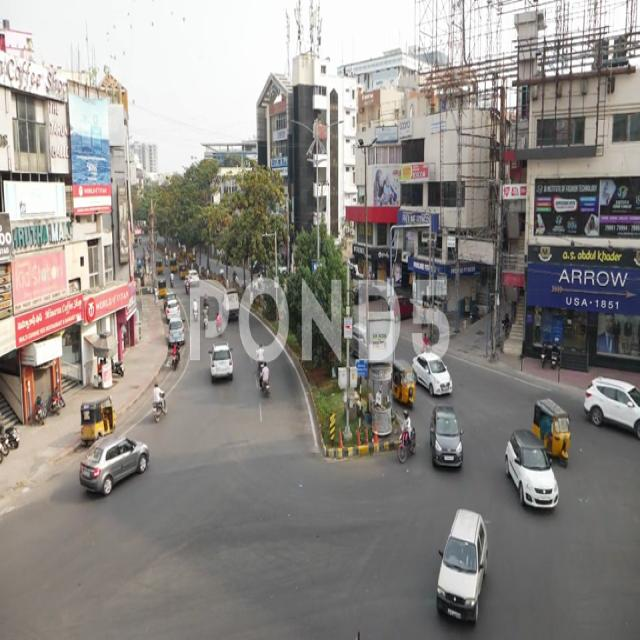car: (437, 502, 488, 631), (498, 430, 568, 511), (78, 440, 153, 496), (583, 375, 640, 438), (429, 406, 463, 476), (417, 356, 456, 396), (210, 341, 234, 386)
motorbike: (397, 413, 419, 464), (151, 379, 169, 427), (262, 358, 272, 401)
rikshaw: (532, 390, 573, 480), (394, 362, 415, 410)
